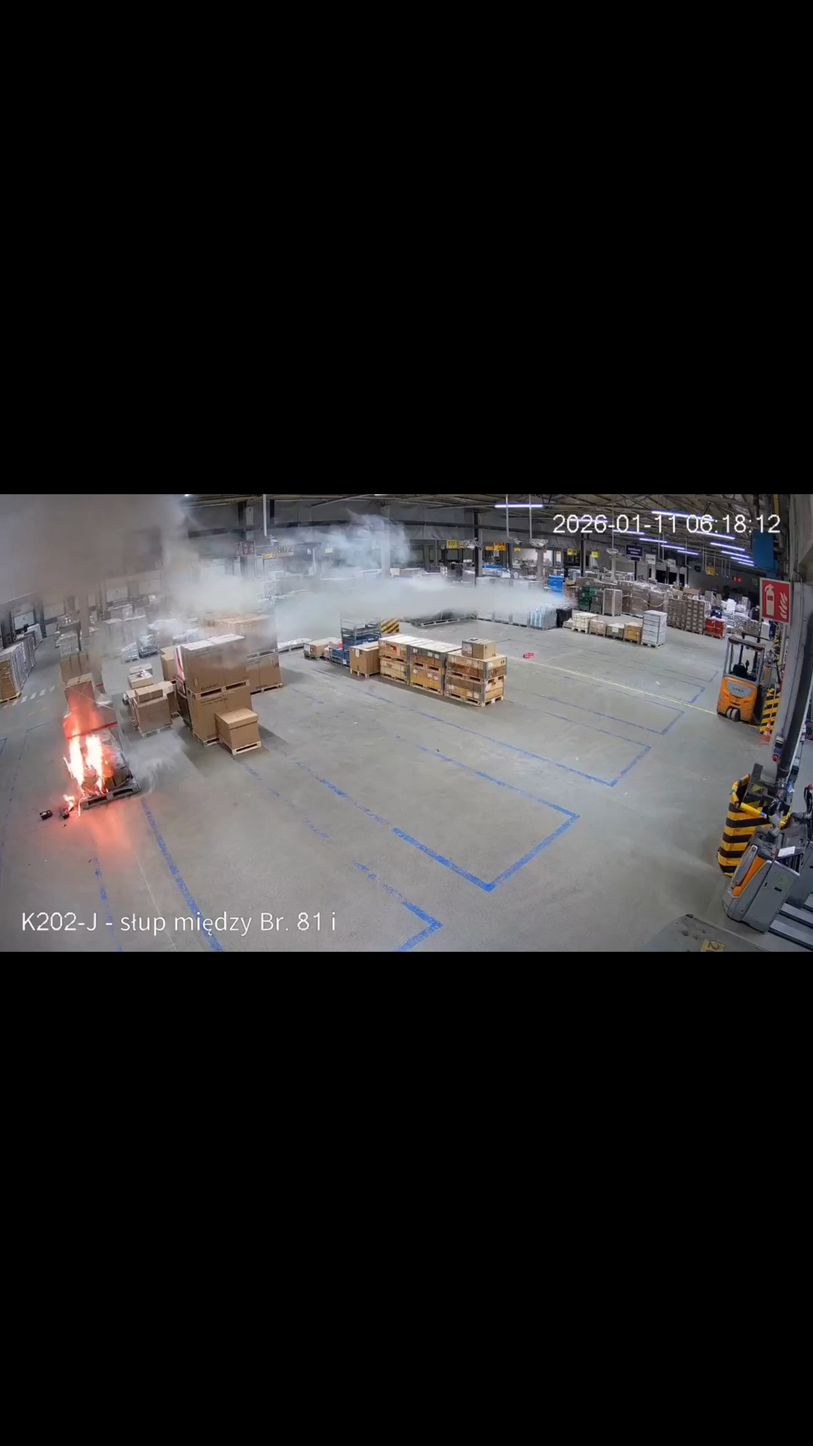fire: (62, 697, 116, 818)
smoke: (1, 495, 561, 724)
